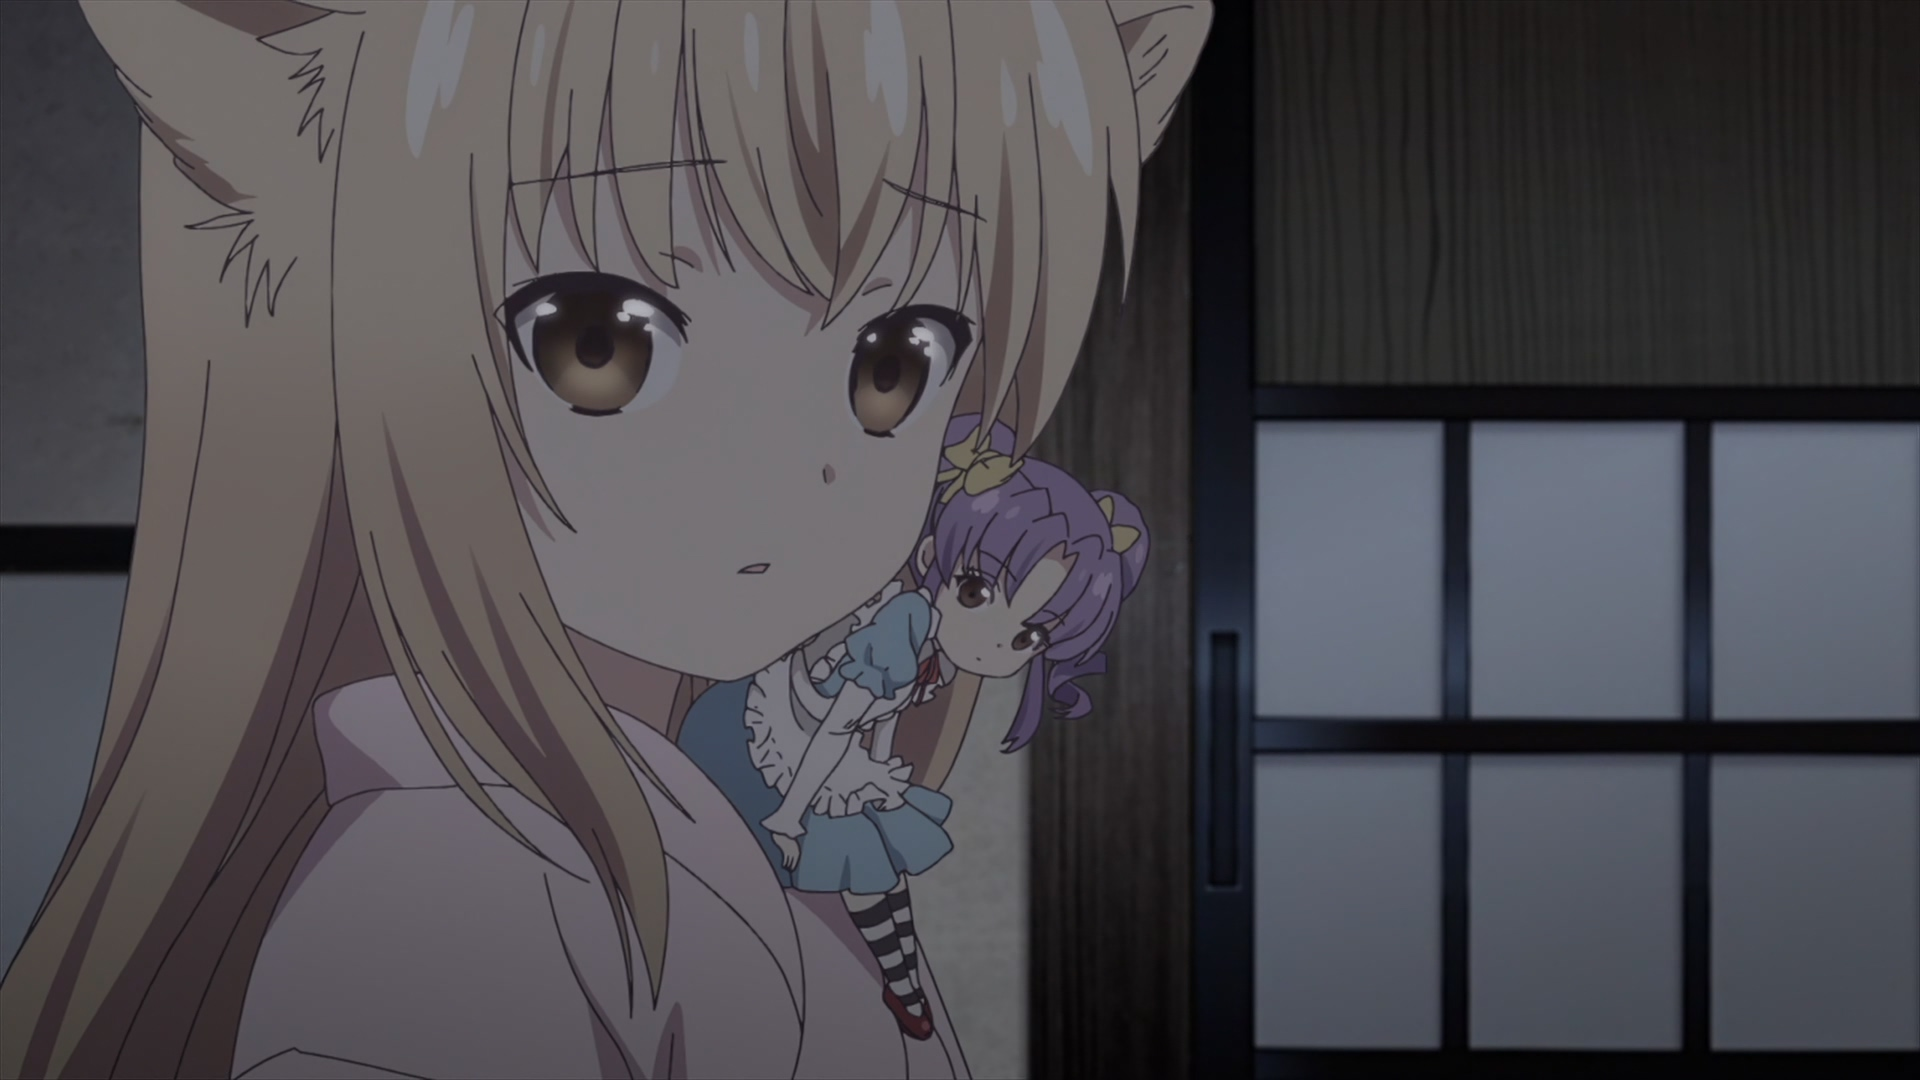柚: (1, 1, 1212, 1080)
阿菊: (680, 411, 1153, 1040)
